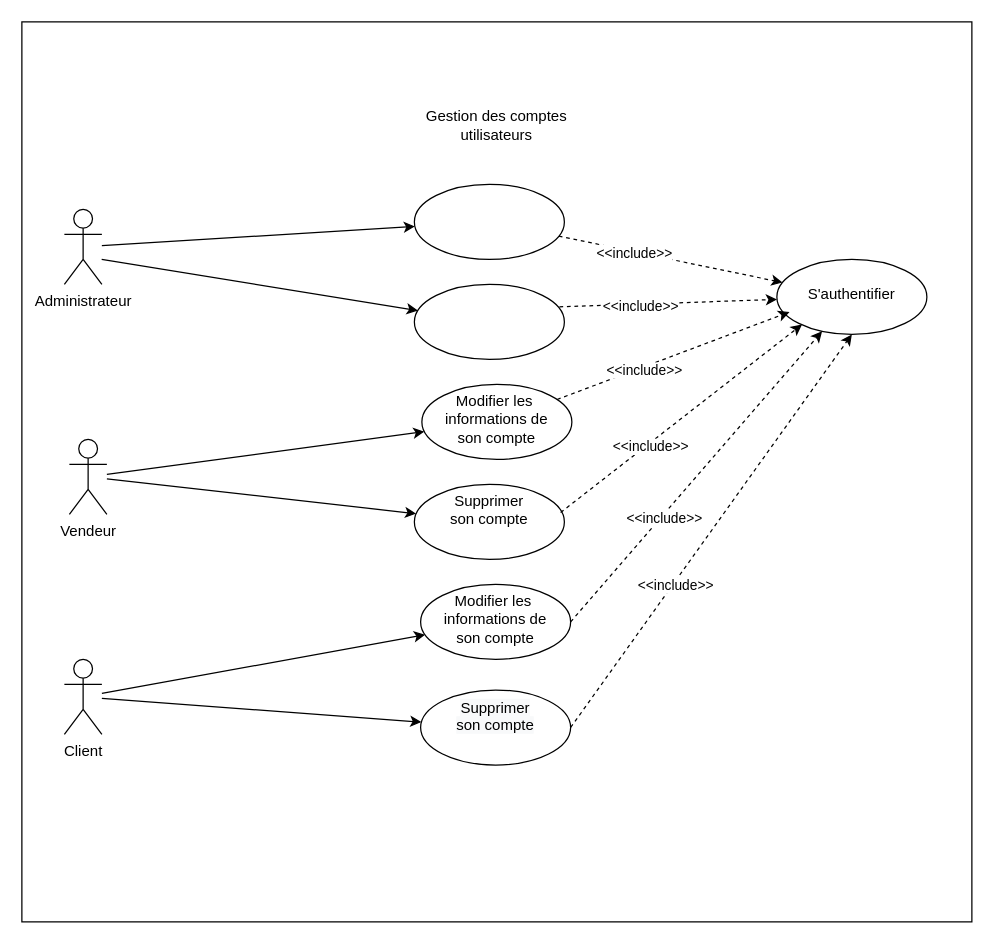
Some shapes in this 994 by 944 pixel diagram are drawn without their labels. Here are the shapes that lost their labels. From the top down, the box of each, then its label:
(413, 183, 564, 259): Modifier l'etat du compte
(413, 283, 564, 359): Supprimer un compte
